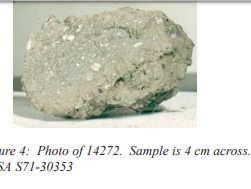Breccia: (14, 0, 195, 123)
